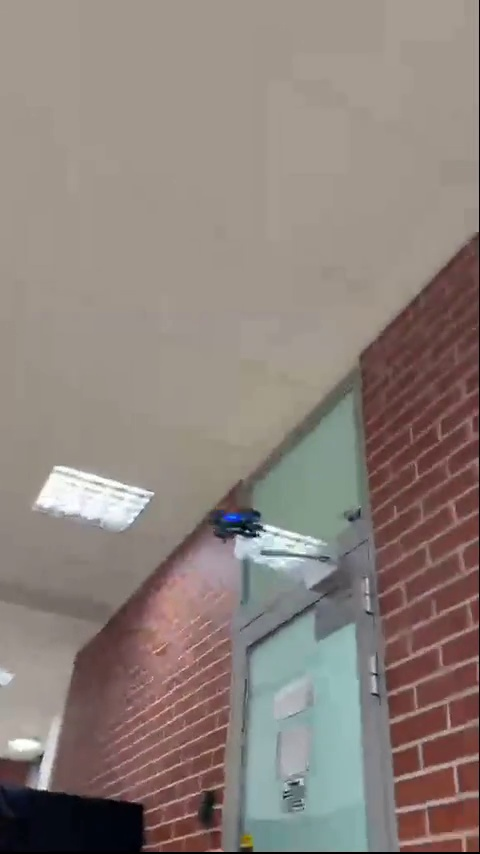drone: (212, 505, 262, 545)
